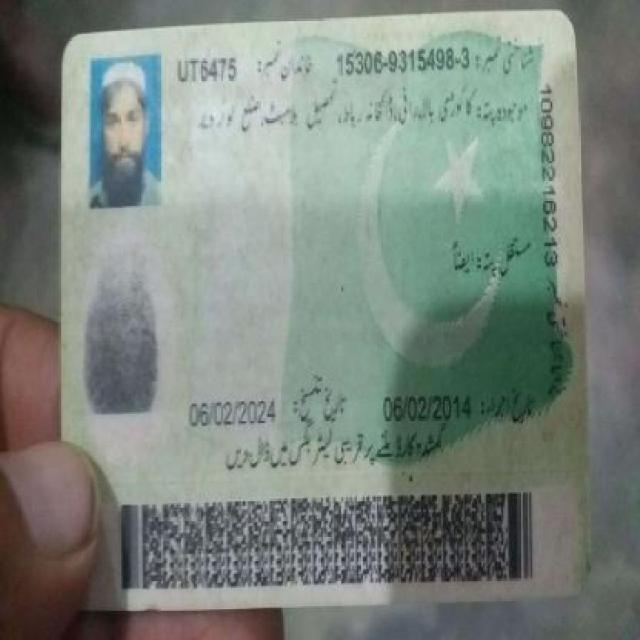Back: (48, 15, 594, 600)
